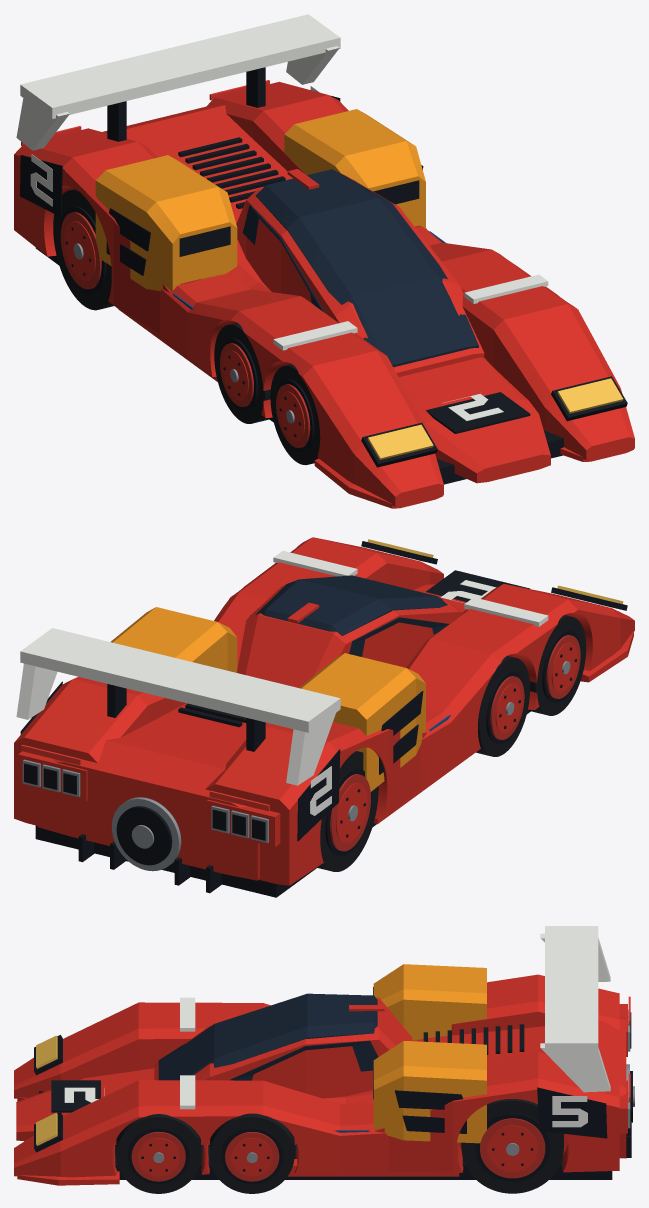
The model's file is fire-superion-gtr.glb.
3 renders of one model, top to bottom at view 1: azimuth 30°, elevation 25°; view 2: azimuth 150°, elevation 25°; view 3: azimuth 270°, elevation 25°, orthographic. The views are drawn at different scales.
Visible parts, largest first — view 1: fire-superion-gtr (×8); view 2: fire-superion-gtr (×10); view 3: fire-superion-gtr (×9).
Part boxes in pixels (bbox=[...]): fire-superion-gtr (×8): bbox=[14, 14, 634, 508]; fire-superion-gtr (×10): bbox=[14, 537, 634, 897]; fire-superion-gtr (×9): bbox=[14, 926, 634, 1193].
Bounding box in the file's own units: 2.49 × 1.54 × 5.58.
